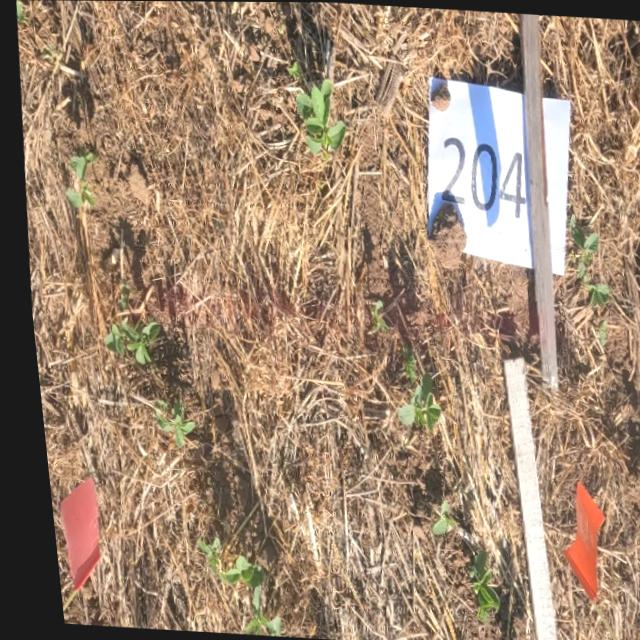soy_plant: (188, 542, 268, 636), (389, 346, 433, 428), (293, 79, 343, 151), (566, 221, 606, 306), (96, 318, 154, 366), (454, 549, 487, 621), (146, 400, 187, 446), (62, 152, 91, 208), (420, 500, 446, 536), (364, 300, 381, 333), (113, 280, 125, 313)
